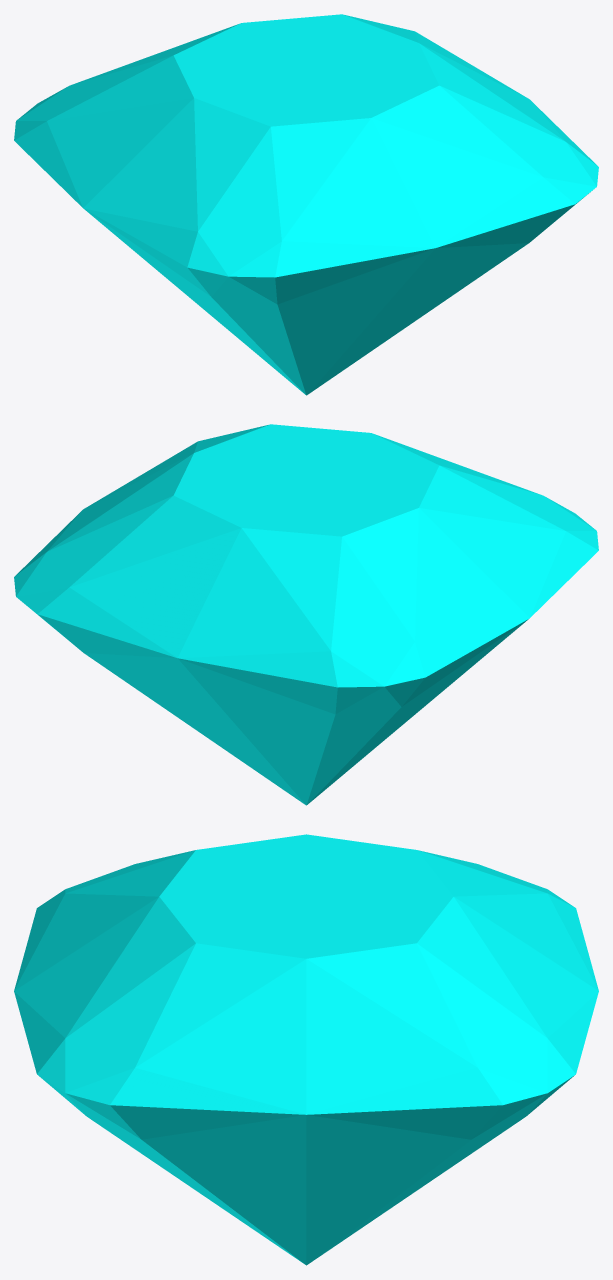
The model's file is Proto_Gem_01.fbx.
3 renders of one model, top to bottom at view 1: azimuth 30°, elevation 25°; view 2: azimuth 150°, elevation 25°; view 3: azimuth 270°, elevation 25°, orthographic. The views are drawn at different scales.
Parts seen in each view (by area): view 1: Proto_Gem_01; view 2: Proto_Gem_01; view 3: Proto_Gem_01.
Part boxes in pixels (left/top/right/bottom): Proto_Gem_01: left=14, top=14, right=598, bottom=395; Proto_Gem_01: left=14, top=424, right=598, bottom=805; Proto_Gem_01: left=14, top=834, right=598, bottom=1265.
Bounding box in the file's own units: 0.2859 × 0.1989 × 0.2858.
